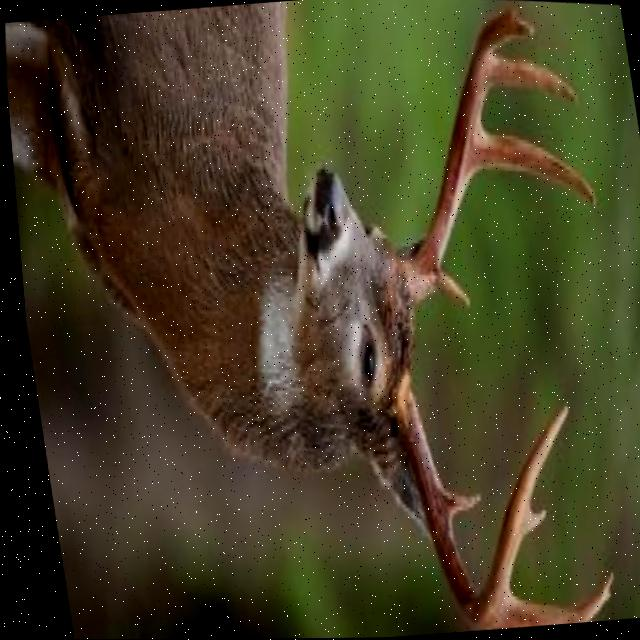L-F: (394, 6, 536, 306)
L-G1: (426, 266, 465, 310)
L-G2: (469, 124, 593, 209)
L-G3: (487, 52, 574, 103)
R-F: (385, 372, 563, 631)
R-G1: (435, 489, 476, 519)
R-G2: (471, 565, 607, 631)
R-G3: (516, 509, 539, 534)
